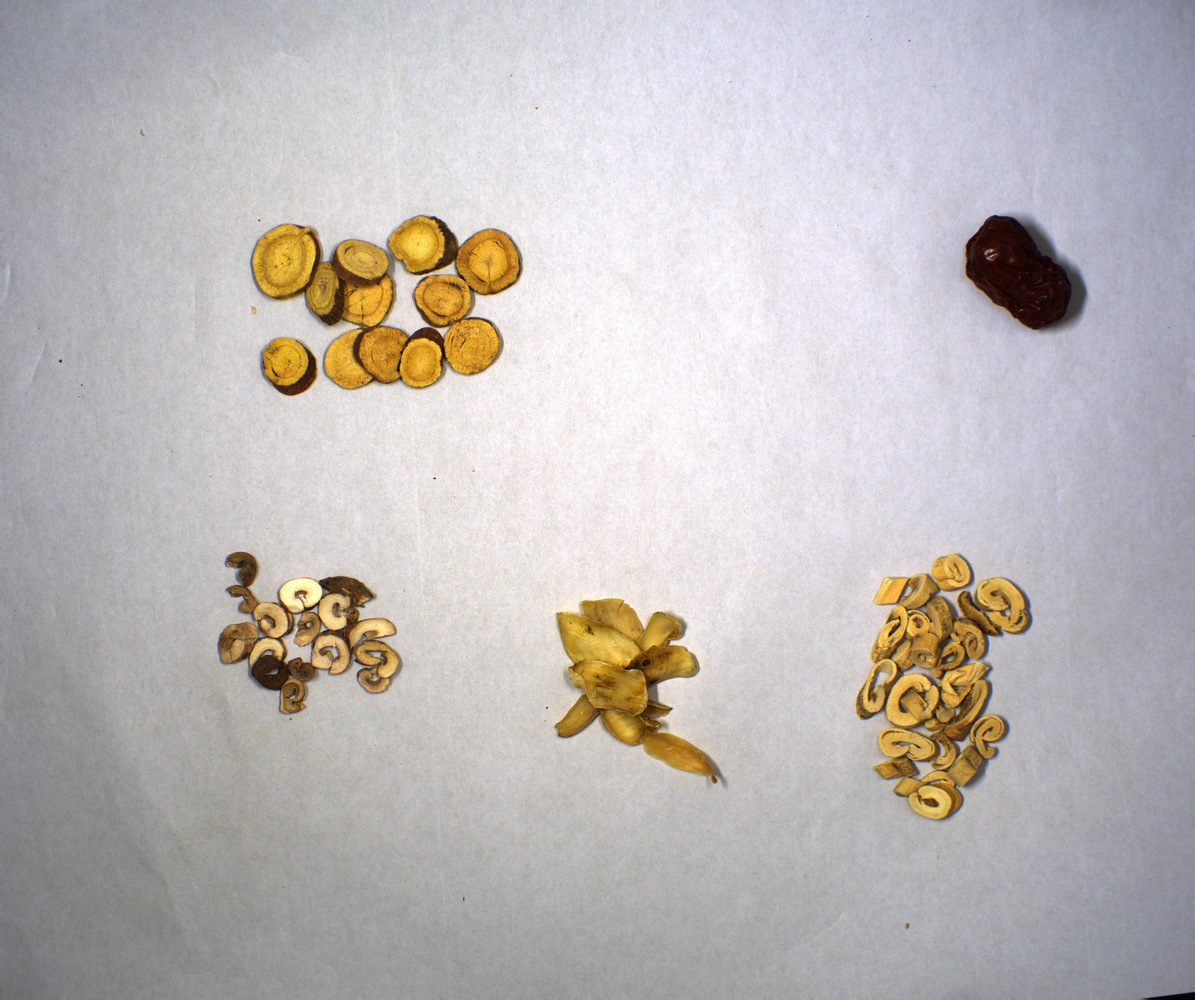baihe: (555, 598, 727, 792)
baixianpi: (852, 552, 1034, 822)
dazao: (962, 215, 1087, 332)
gancaopian: (248, 214, 520, 396)
mudanpi: (217, 551, 404, 719)
